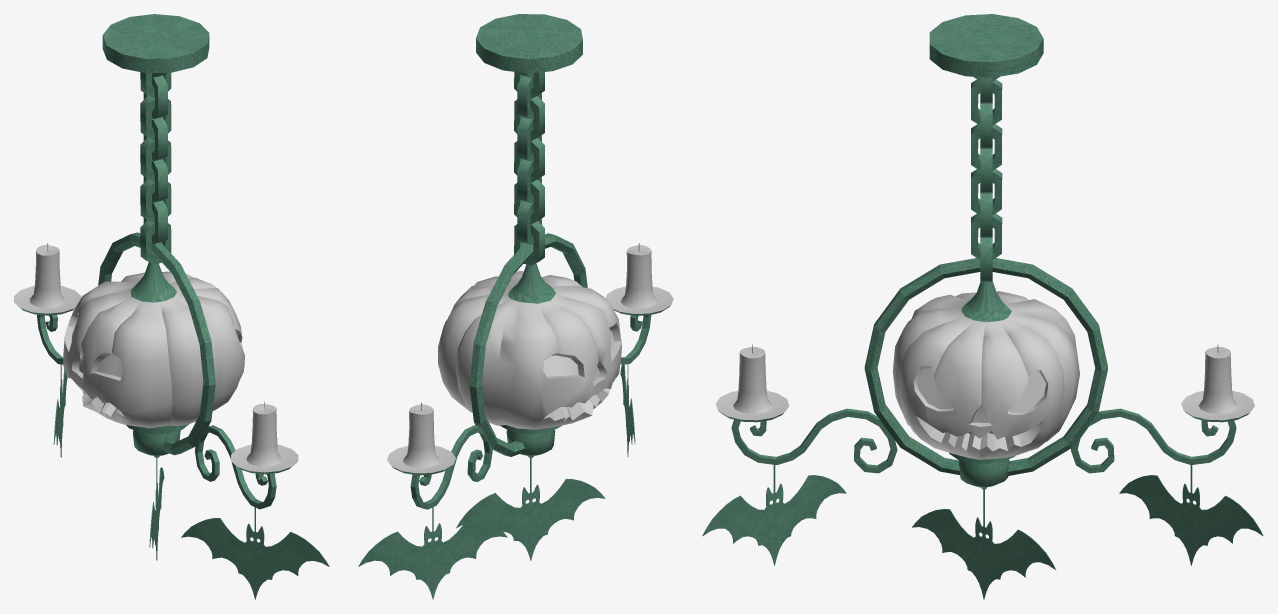
File: Chandelier.fbx
The picture shows the model from 3 angles, left to right: view 1: azimuth 30°, elevation 25°; view 2: azimuth 150°, elevation 25°; view 3: azimuth 270°, elevation 25°; orthographic projection. The views are drawn at different scales.
Visible parts, largest first — view 1: Chandelier; view 2: Chandelier; view 3: Chandelier.
Part boxes in pixels (x1=…): Chandelier: x1=14, y1=14, x2=329, y2=599; Chandelier: x1=358, y1=14, x2=673, y2=599; Chandelier: x1=702, y1=14, x2=1263, y2=599.
Size of the model in its own units: 49.89 by 163 by 148.
